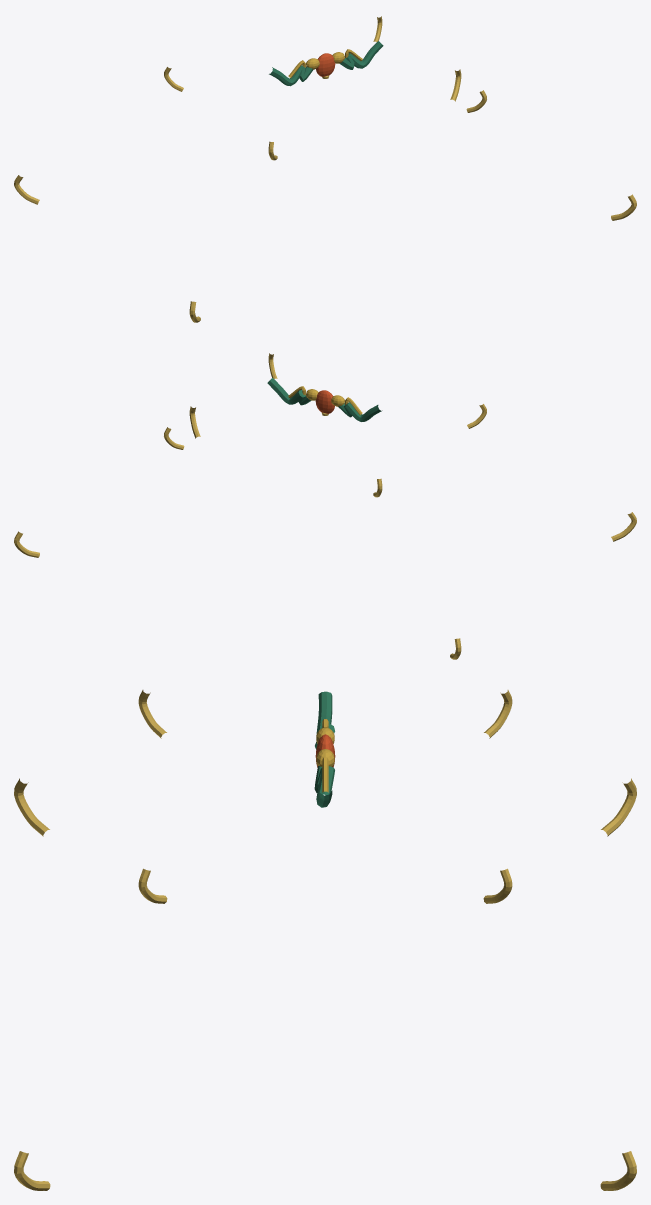
Rendered from gate-dongba-hero.glb.
The picture shows the model from 3 angles, top to bottom: view 1: azimuth 30°, elevation 25°; view 2: azimuth 150°, elevation 25°; view 3: azimuth 270°, elevation 25°; orthographic projection. The views are drawn at different scales.
Parts seen in each view (by area): view 1: gate_dongba_hero; view 2: gate_dongba_hero; view 3: gate_dongba_hero.
Part boxes in pixels (x1=…): gate_dongba_hero: x1=14, y1=16, x2=636, y2=322; gate_dongba_hero: x1=14, y1=353, x2=636, y2=659; gate_dongba_hero: x1=14, y1=690, x2=636, y2=1190.
Size of the model in its own units: 11.05 by 3.76 by 7.65.
